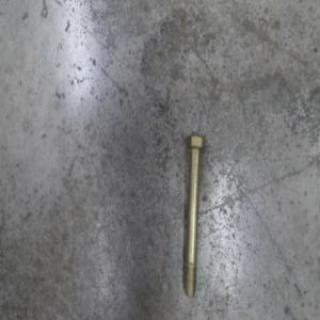Bolttrack_idkeyframe: (182, 132, 206, 299)
